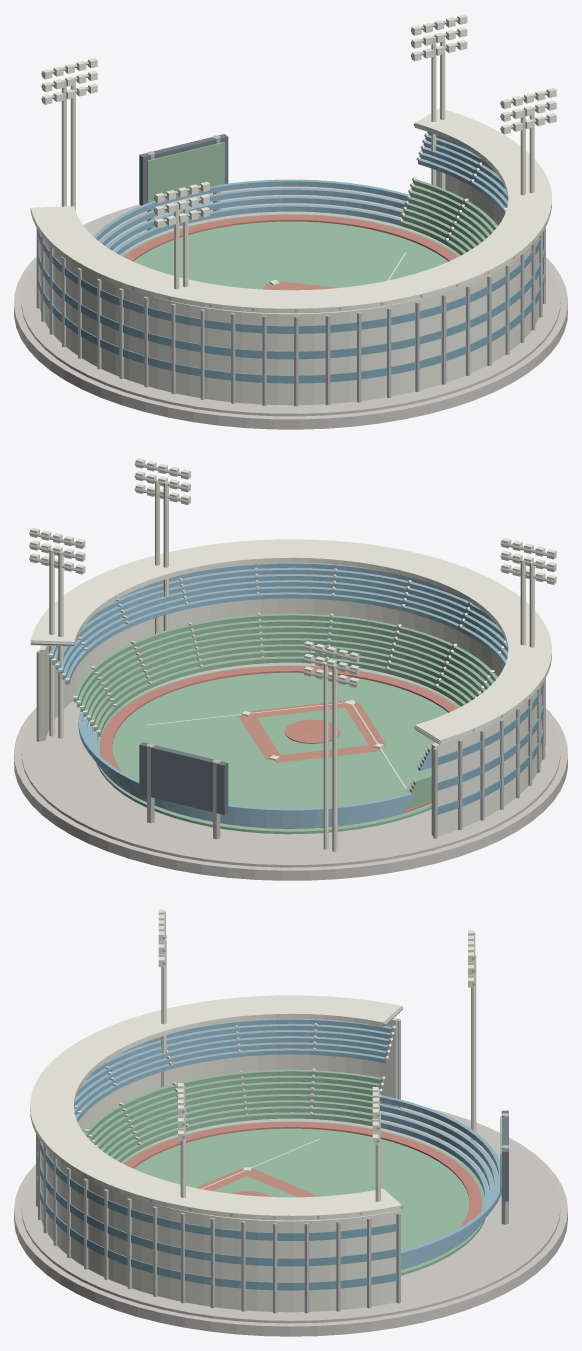
The model's file is dot-chengcing-baseball.glb.
3 views of the same model, one above another, from view 1: azimuth 30°, elevation 25°; view 2: azimuth 150°, elevation 25°; view 3: azimuth 270°, elevation 25° (orthographic).
Parts seen in each view (by area): view 1: sand; view 2: sand; view 3: sand.
Part boxes in pixels (bbox=[...]): sand: bbox=[14, 14, 567, 429]; sand: bbox=[14, 458, 567, 880]; sand: bbox=[14, 909, 567, 1336].
Size of the model in its own units: 7.9 by 3.35 by 7.9.
1 material, 1 textured.
